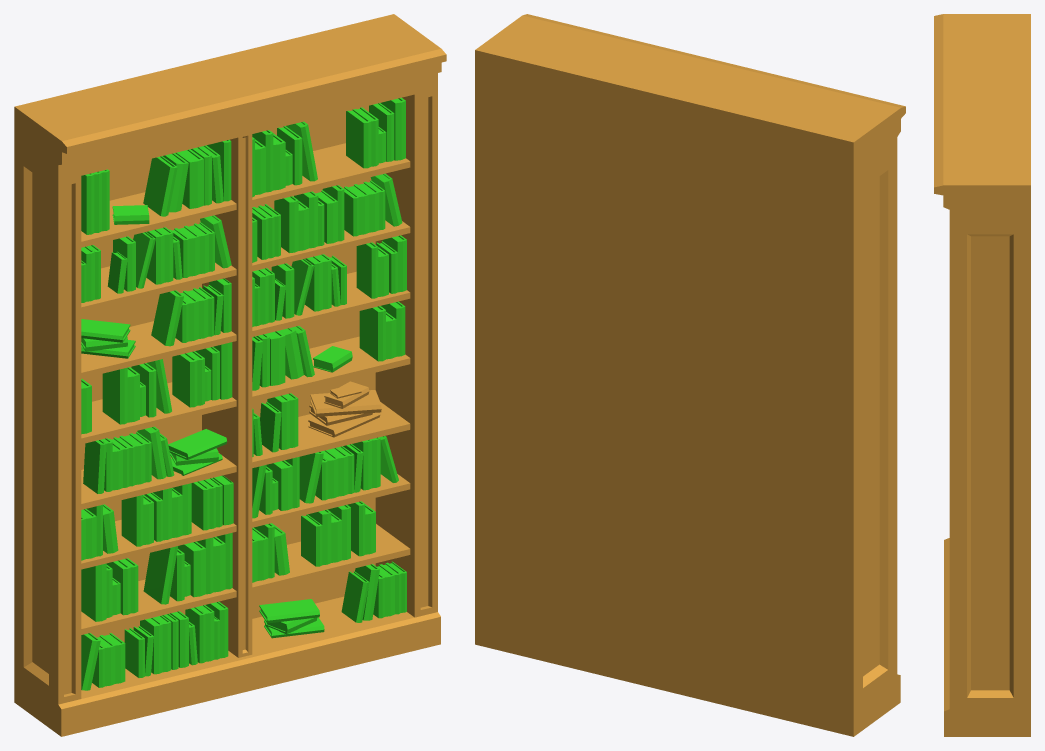
Rendered from Sm_Bookcase_Modular_Filled_2m_A.fbx.
The picture shows the model from 3 angles, left to right: view 1: azimuth 30°, elevation 25°; view 2: azimuth 150°, elevation 25°; view 3: azimuth 270°, elevation 25°; orthographic projection. The views are drawn at different scales.
Visible parts, largest first — view 1: bookcase-modular-filled-2m-a; view 2: bookcase-modular-filled-2m-a; view 3: bookcase-modular-filled-2m-a.
Boxes of the visible parts, left/top/right/bottom form: bookcase-modular-filled-2m-a: left=14, top=14, right=446, bottom=736; bookcase-modular-filled-2m-a: left=475, top=14, right=905, bottom=736; bookcase-modular-filled-2m-a: left=934, top=14, right=1030, bottom=736.
Size of the model in its own units: 2 by 3 by 0.4778.
